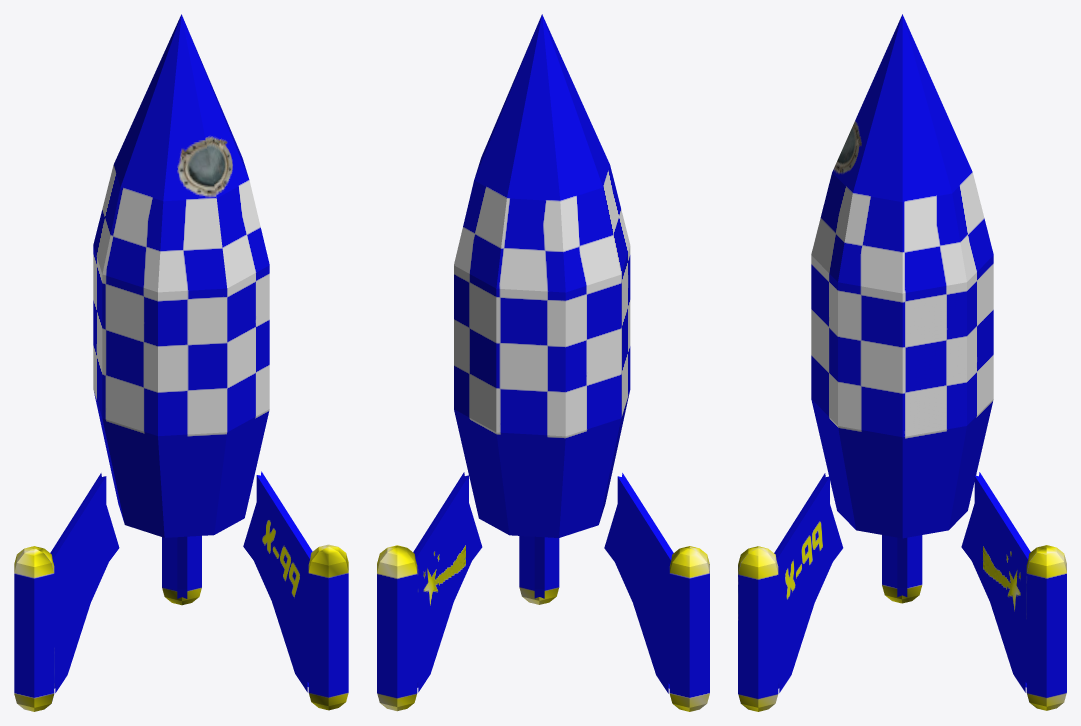
File: rocket.obj
3 views of the same model, side by side, from view 1: azimuth 30°, elevation 25°; view 2: azimuth 150°, elevation 25°; view 3: azimuth 270°, elevation 25° (orthographic).
Visible parts, largest first — view 1: Rocket, wing02, wing01, reactor02, reactor01, reactor03, wing03; view 2: Rocket, wing01, wing03, reactor01, reactor03, reactor02, wing02; view 3: Rocket, wing03, wing02, reactor02, reactor03, reactor01, wing01.
Part boxes in pixels (x1=…): Rocket: x1=93, y1=14, x2=269, y2=537; wing02: x1=243, y1=471, x2=312, y2=692; wing01: x1=50, y1=473, x2=119, y2=692; reactor02: x1=308, y1=544, x2=348, y2=710; reactor01: x1=14, y1=546, x2=54, y2=711; reactor03: x1=162, y1=536, x2=201, y2=605; wing03: x1=177, y1=536, x2=187, y2=598; Rocket: x1=454, y1=14, x2=630, y2=537; wing01: x1=604, y1=473, x2=673, y2=693; wing03: x1=413, y1=472, x2=482, y2=692; reactor01: x1=669, y1=546, x2=709, y2=711; reactor03: x1=377, y1=545, x2=417, y2=711; reactor02: x1=519, y1=536, x2=559, y2=604; wing02: x1=534, y1=536, x2=544, y2=598; Rocket: x1=811, y1=14, x2=993, y2=538; wing03: x1=961, y1=472, x2=1030, y2=692; wing02: x1=774, y1=473, x2=843, y2=692; reactor02: x1=738, y1=546, x2=778, y2=711; reactor03: x1=1026, y1=545, x2=1066, y2=710; reactor01: x1=882, y1=535, x2=922, y2=603; wing01: x1=897, y1=537, x2=907, y2=596.
Size of the model in its own units: 165 by 396 by 179.
1 material, 1 textured.
